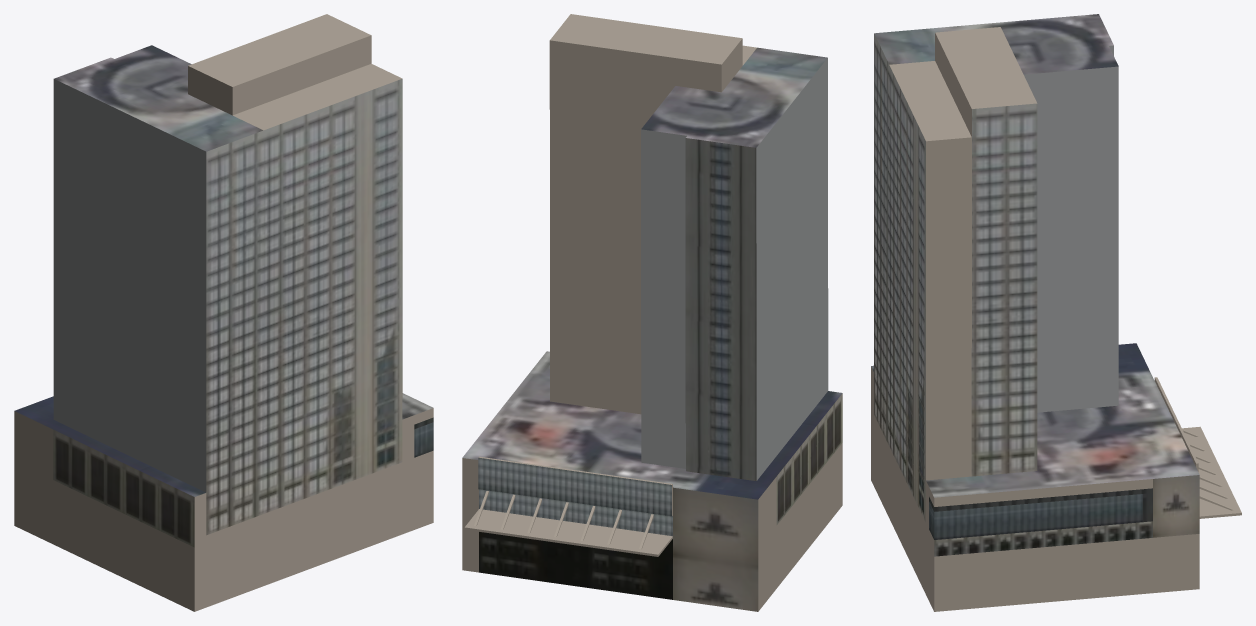
File: jw_jw_marriott_hotel_863002a0.glb
The picture shows the model from 3 angles, left to right: view 1: azimuth 30°, elevation 25°; view 2: azimuth 150°, elevation 25°; view 3: azimuth 270°, elevation 25°; orthographic projection. The views are drawn at different scales.
Parts seen in each view (by area): view 1: jw_jw_marriott_hotel_863002a0; view 2: jw_jw_marriott_hotel_863002a0; view 3: jw_jw_marriott_hotel_863002a0.
Boxes of the visible parts, x1=… form: jw_jw_marriott_hotel_863002a0: x1=14, y1=14, x2=433, y2=611; jw_jw_marriott_hotel_863002a0: x1=462, y1=14, x2=842, y2=611; jw_jw_marriott_hotel_863002a0: x1=871, y1=14, x2=1241, y2=611.
Bounding box in the file's own units: 70.27 × 102 × 71.36.
1 material, 1 textured.
